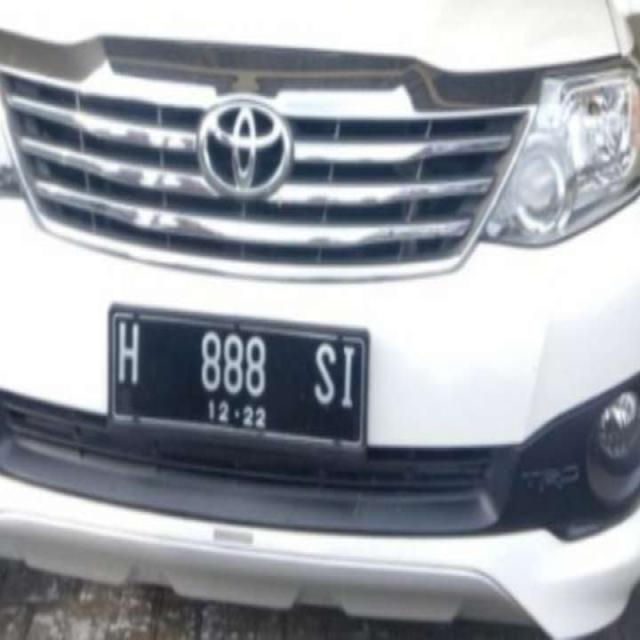plate: (110, 307, 363, 444)
